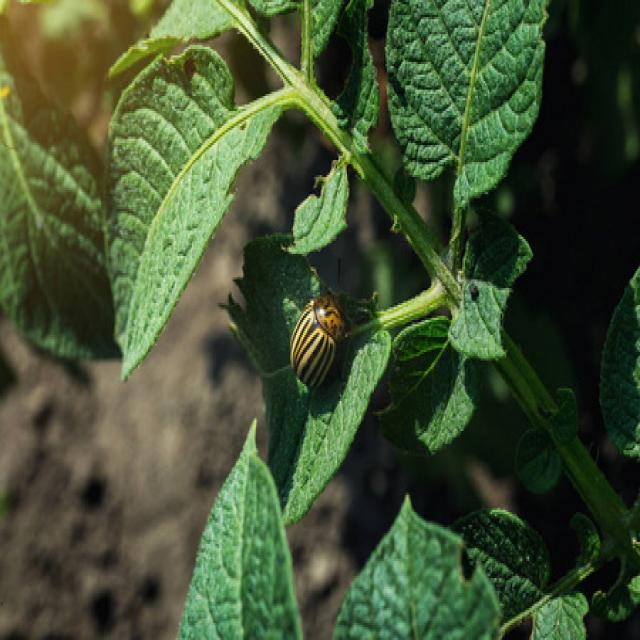ShuCaiHuaBanChong-Grown-: (276, 283, 350, 403)
